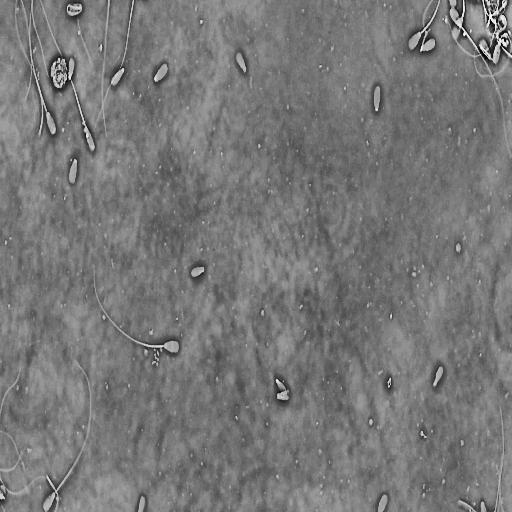agglutination: (477, 0, 512, 69)
coiled-tail: (67, 2, 82, 17), (74, 5, 81, 7)
dirt-particles: (48, 54, 69, 92), (386, 374, 393, 390)
loose-head: (152, 60, 169, 85), (110, 65, 126, 88), (67, 156, 79, 186), (235, 49, 248, 75), (433, 363, 445, 389), (373, 82, 382, 115), (189, 263, 206, 280), (275, 378, 287, 396), (68, 56, 76, 82), (276, 389, 291, 402)
loose-tail: (91, 0, 135, 134), (14, 0, 45, 138), (99, 0, 111, 143), (494, 400, 505, 512)
normal: (449, 5, 512, 161), (40, 0, 96, 155), (92, 264, 182, 357), (42, 356, 93, 512), (28, 0, 58, 140), (407, 0, 441, 53), (65, 1, 83, 19)
